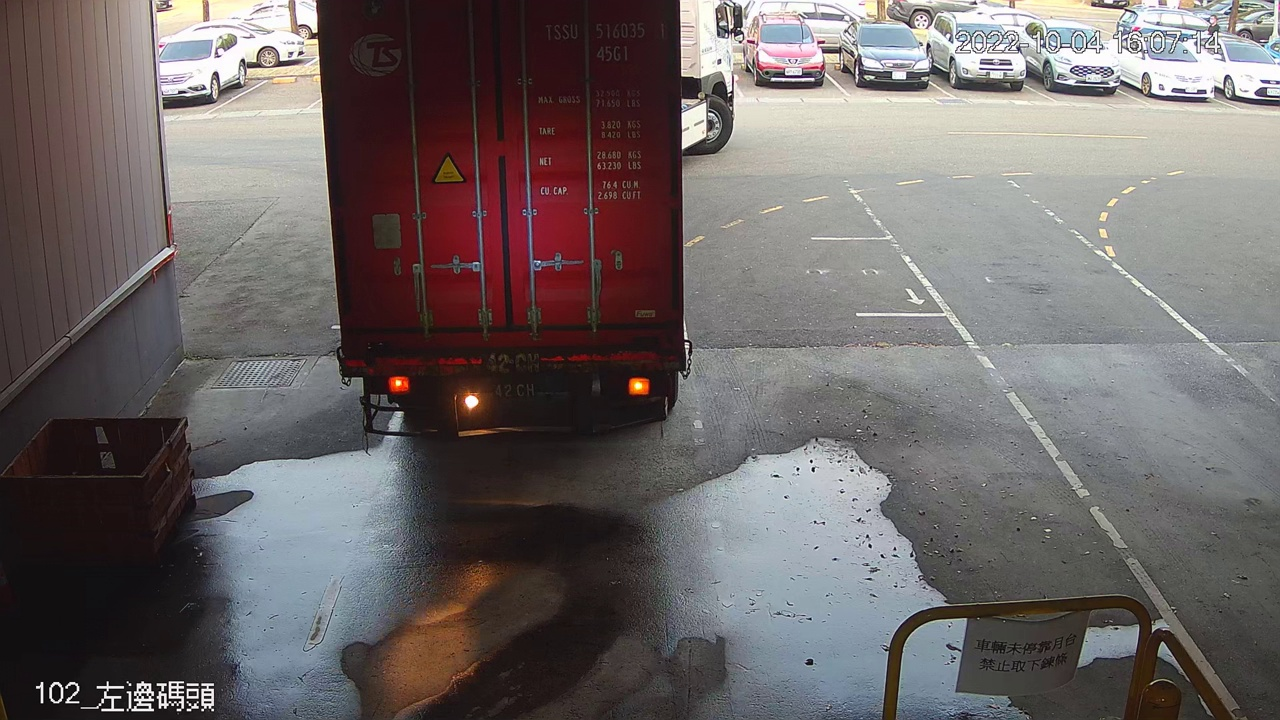container: (540, 16, 672, 67)
